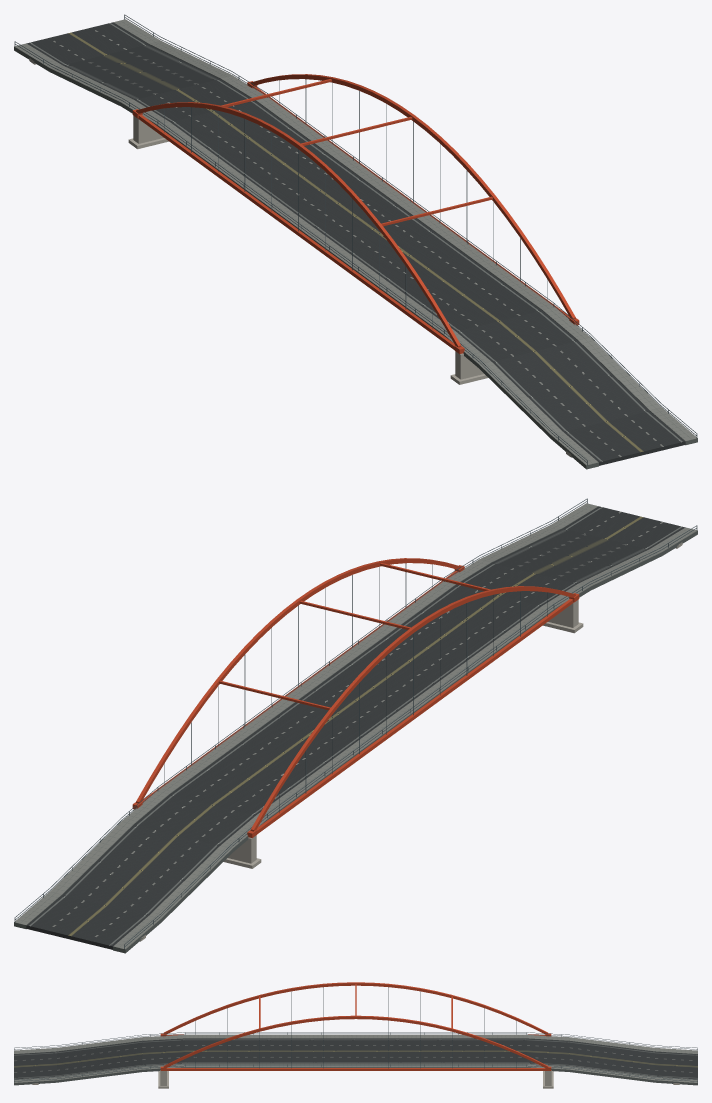
The model's file is city_hall_arch.glb.
3 renders of one model, top to bottom at view 1: azimuth 30°, elevation 25°; view 2: azimuth 150°, elevation 25°; view 3: azimuth 270°, elevation 25°, orthographic. The views are drawn at different scales.
Visible parts, largest first — view 1: RoadDeck, Walkways, Arches, TieBeams, Guardrails, Hangers, Supports; view 2: RoadDeck, Walkways, Arches, TieBeams, Guardrails, Hangers, Supports; view 3: RoadDeck, Walkways, Arches, Guardrails, TieBeams, Hangers, Supports.
Boxes of the visible parts, x1,y1,x2,y2 form: RoadDeck: [26, 22, 685, 465]; Walkways: [14, 19, 697, 469]; Arches: [136, 74, 575, 347]; TieBeams: [132, 81, 579, 353]; Guardrails: [14, 14, 697, 465]; Hangers: [164, 79, 547, 328]; Supports: [29, 58, 578, 457]; RoadDeck: [26, 506, 685, 949]; Walkways: [14, 503, 697, 953]; Arches: [136, 558, 575, 831]; TieBeams: [132, 565, 579, 837]; Guardrails: [14, 498, 697, 949]; Hangers: [164, 563, 547, 812]; Supports: [133, 542, 682, 941]; RoadDeck: [14, 1038, 697, 1079]; Walkways: [14, 1034, 697, 1085]; Arches: [163, 982, 548, 1067]; Guardrails: [14, 1032, 697, 1082]; TieBeams: [160, 1033, 551, 1070]; Hangers: [195, 987, 516, 1068]; Supports: [32, 1070, 679, 1088].
Size of the model in its own units: 40 by 36.76 by 320.
5 materials, 2 textured.
